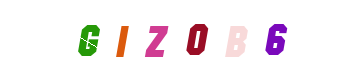0: (140, 0, 220, 80)
6: (235, 0, 315, 80)
B: (157, 0, 237, 80)
G: (48, 0, 128, 80)
I: (82, 0, 162, 80)
Z: (124, 0, 204, 80)
